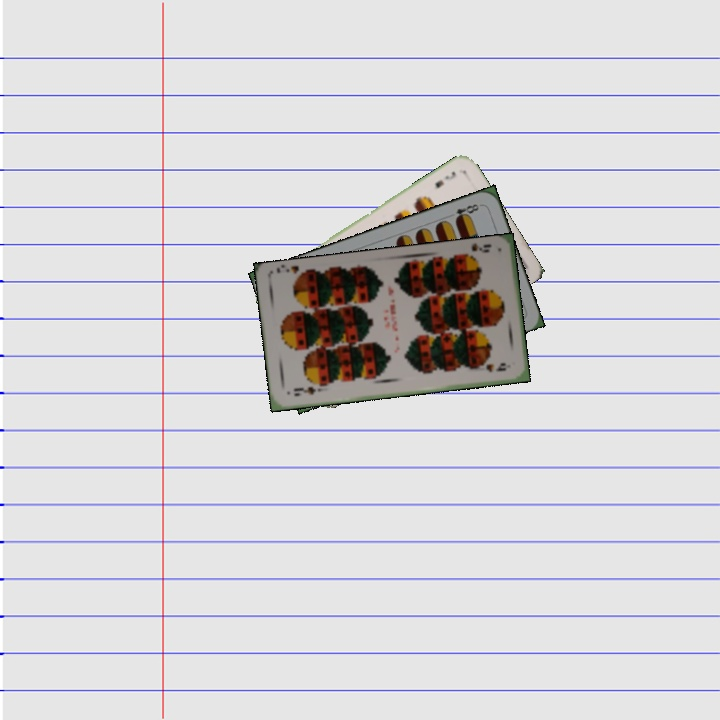E7: (431, 167, 459, 191)
E8: (451, 200, 484, 224)
S9: (458, 240, 494, 261), (290, 383, 318, 399)
